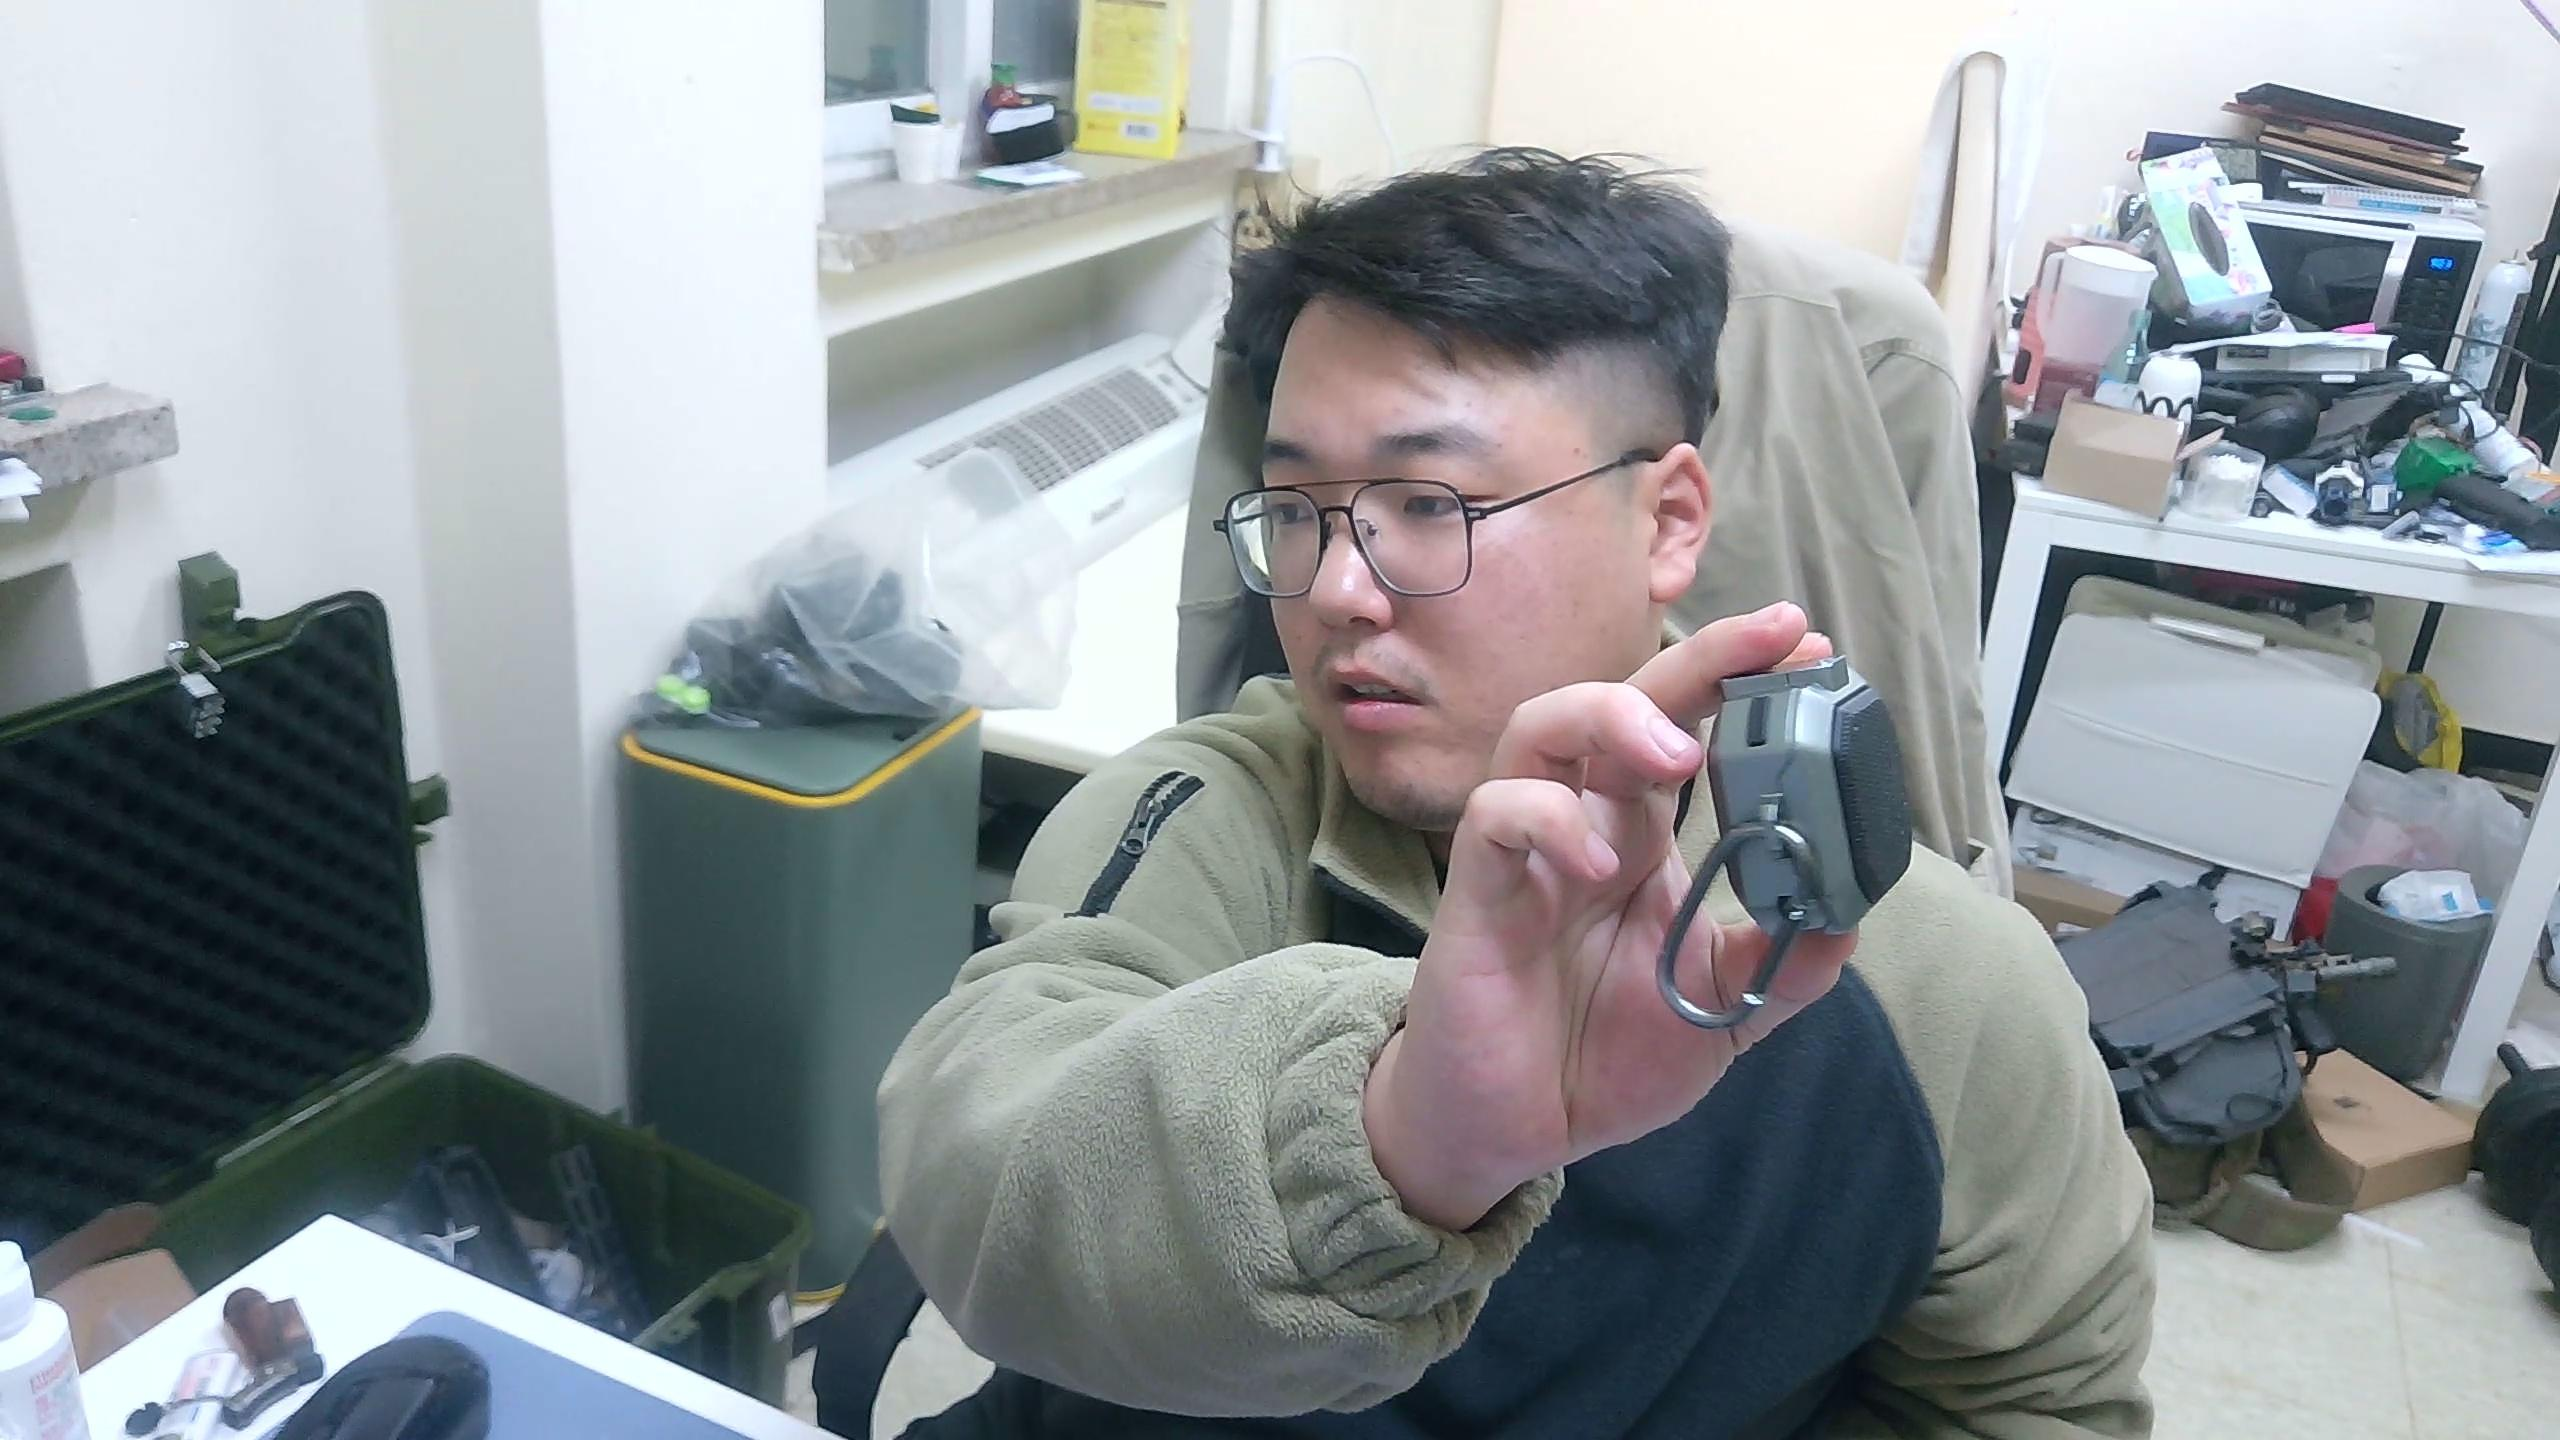blue_pliers: (1655, 652, 1916, 1032)
